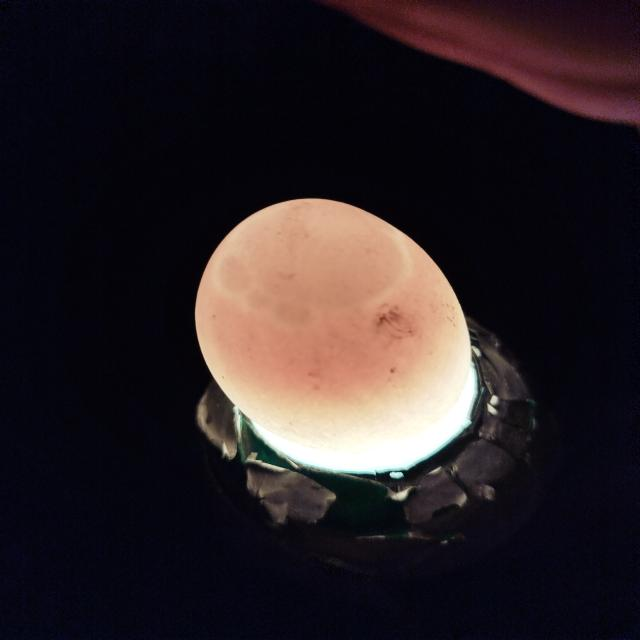Camara de Ar: (215, 198, 407, 329)
